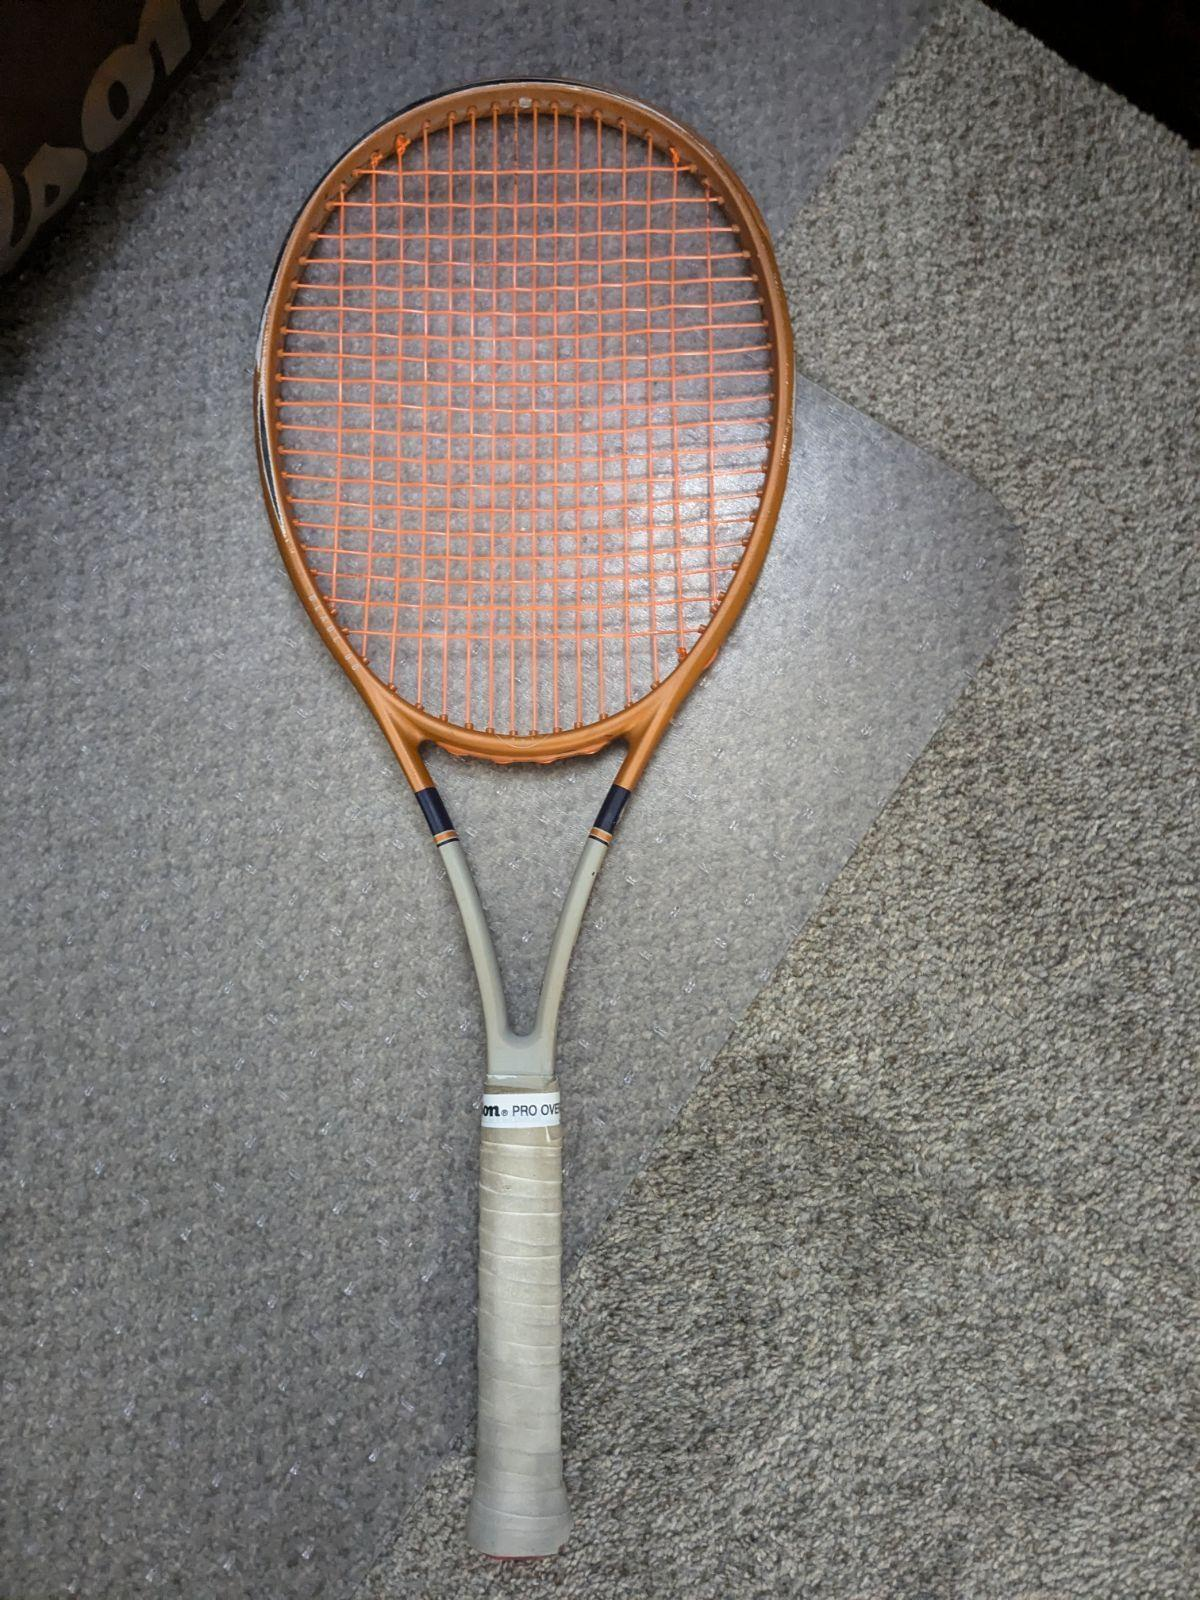Tennis-Racket: (256, 82, 794, 1556)
